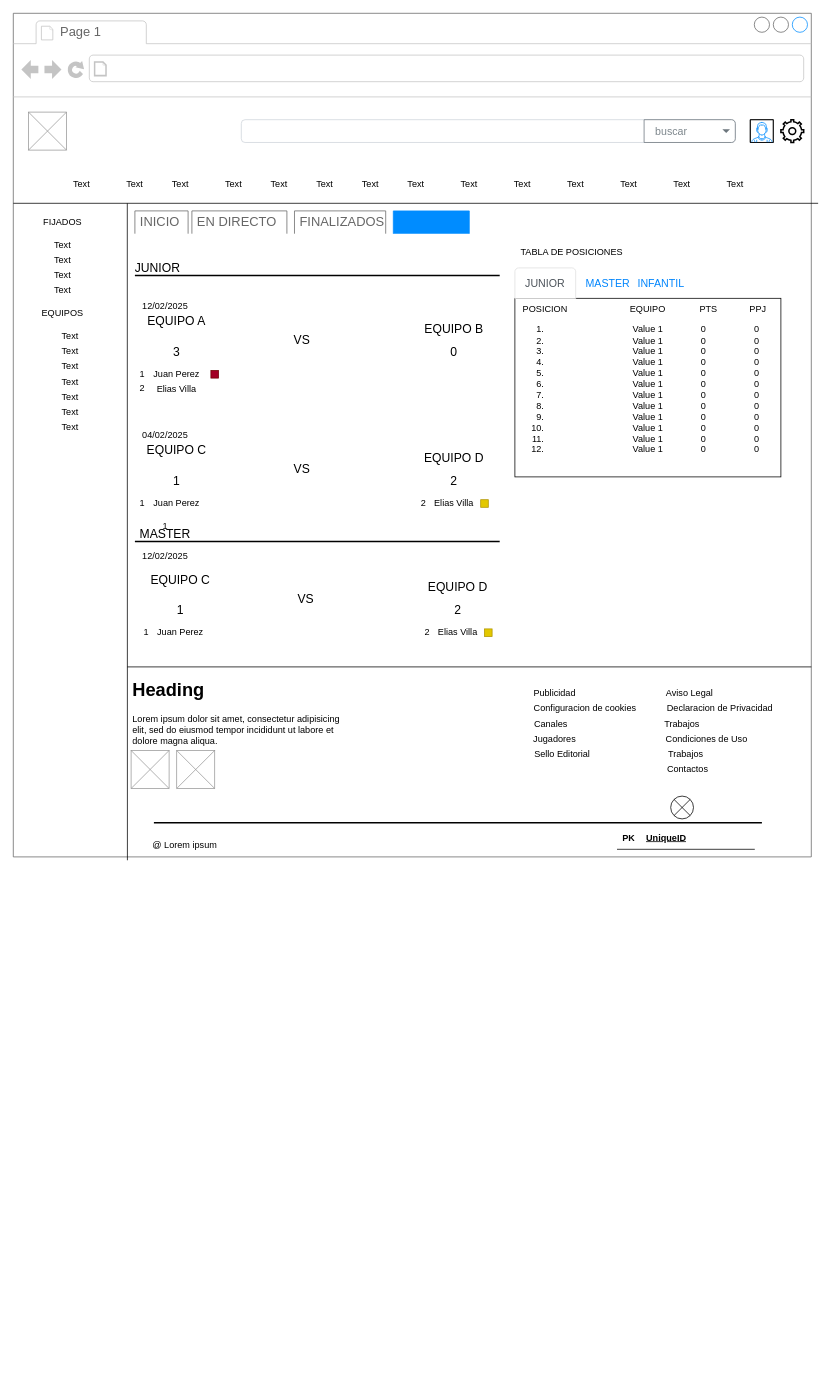
Image size: 832x1389. Some labels were removed from this diagram. The box of each missing label's shape, as (x1, y1, x2, y2) in pixels:
https://www.default.com: (111, 58, 302, 79)
PROXIMOS: (393, 210, 469, 234)
